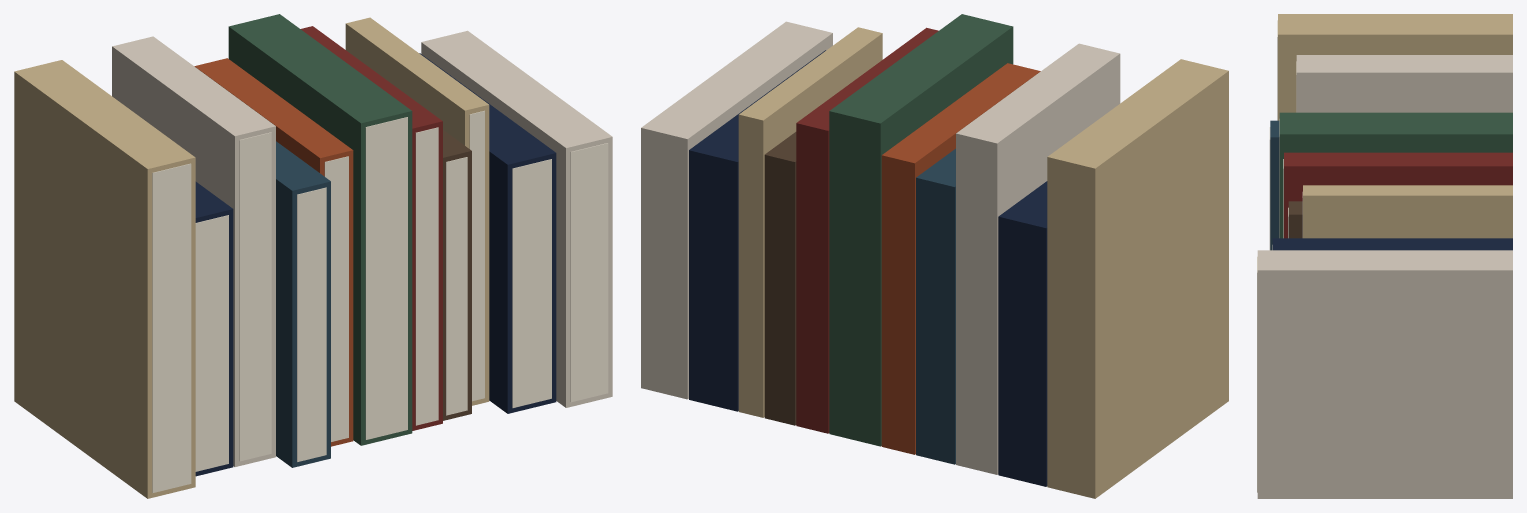
The model's file is BIB-BKR-std.glb.
3 renders of one model, left to right at view 1: azimuth 30°, elevation 25°; view 2: azimuth 150°, elevation 25°; view 3: azimuth 270°, elevation 25°, orthographic. The views are drawn at different scales.
Visible parts, largest first — view 1: BIB-BKR-std; view 2: BIB-BKR-std; view 3: BIB-BKR-std.
Boxes of the visible parts, left/top/right/bottom form: BIB-BKR-std: left=14, top=14, right=612, bottom=498; BIB-BKR-std: left=641, top=14, right=1228, bottom=498; BIB-BKR-std: left=1257, top=14, right=1512, bottom=498.
Bounding box in the file's own units: 0.3907 × 0.2724 × 0.2168.
